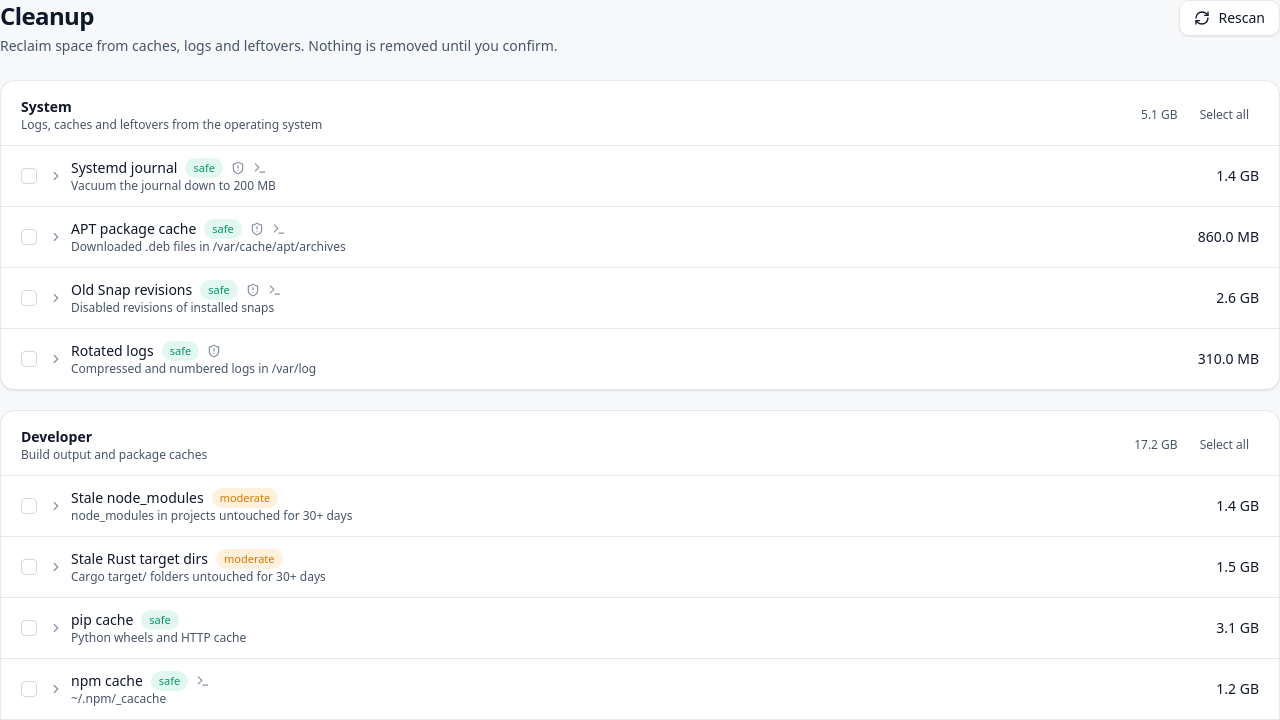
Test case: Cleanup page › selecting a cleaner shows the sticky footer and a confirm dialog
Expected: the text "Systemd journal" is shown, [71,158,178,178]
Click the 1st checkbox: [29, 176] box [21,168,37,184]
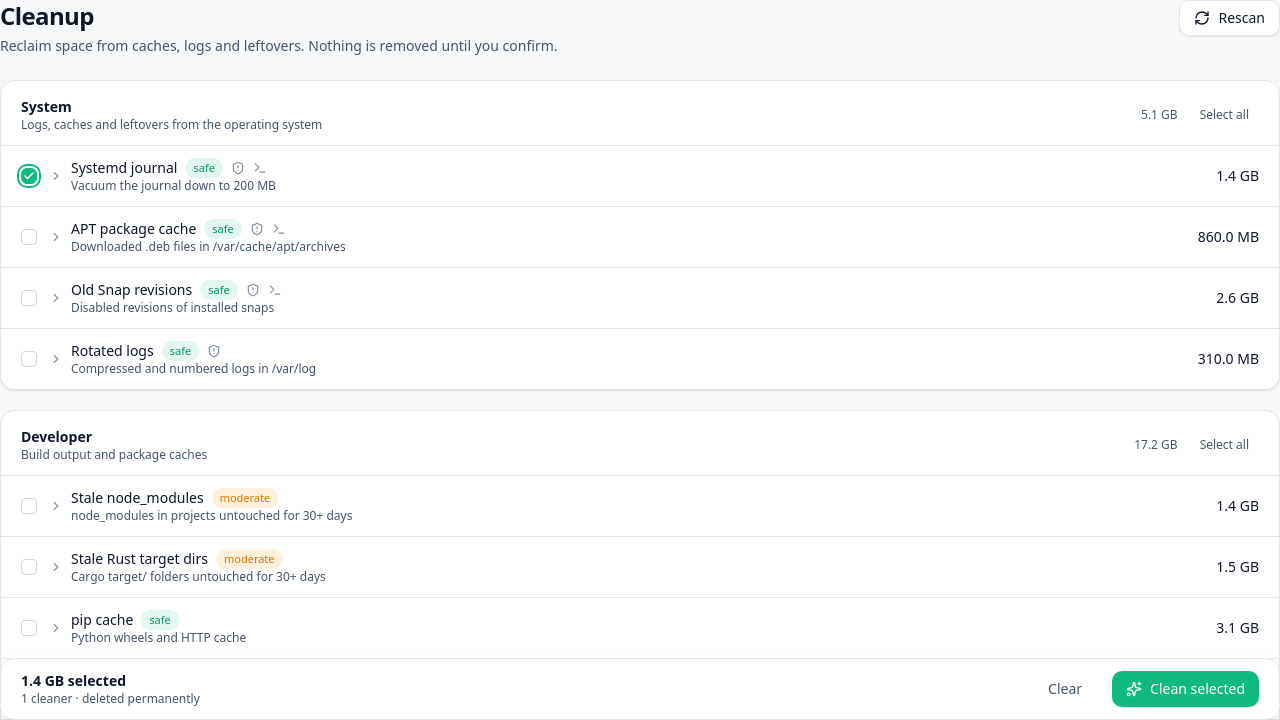
Click the button "Clean selected": [1186, 689] box [1112,671,1259,707]
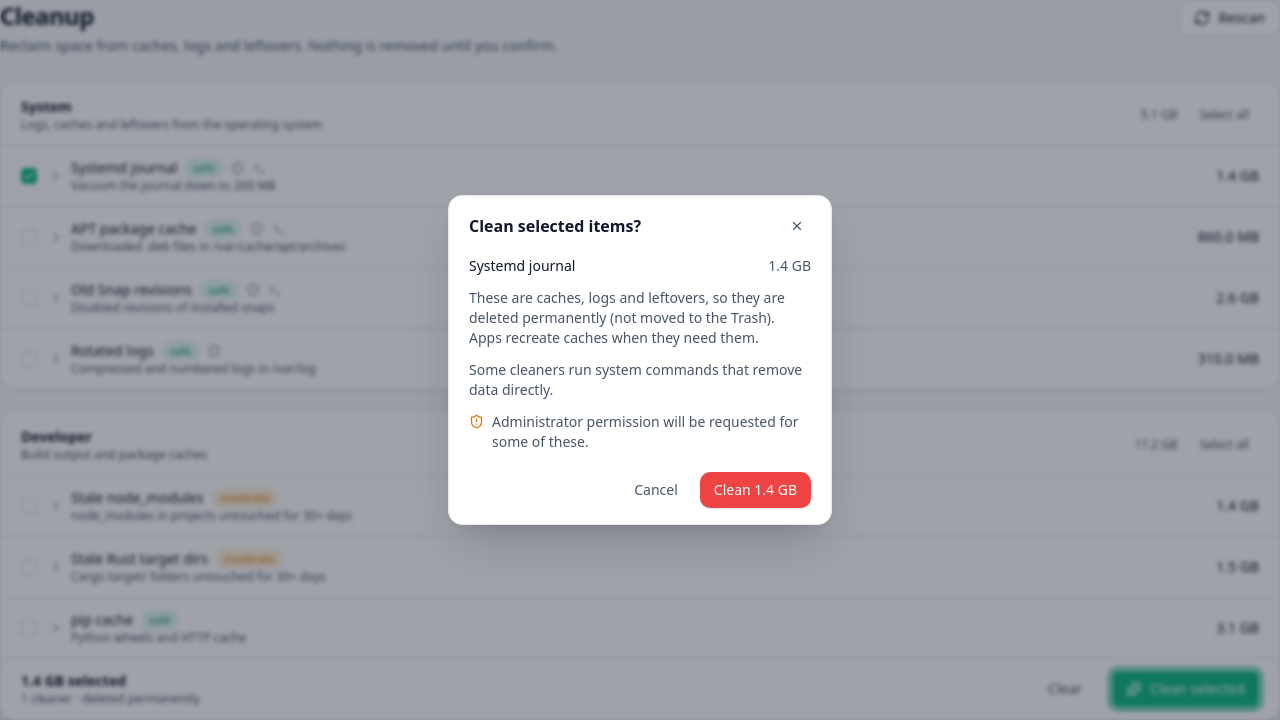
Expected: the dialog "Clean selected items?" is shown, [448,195,832,525]
